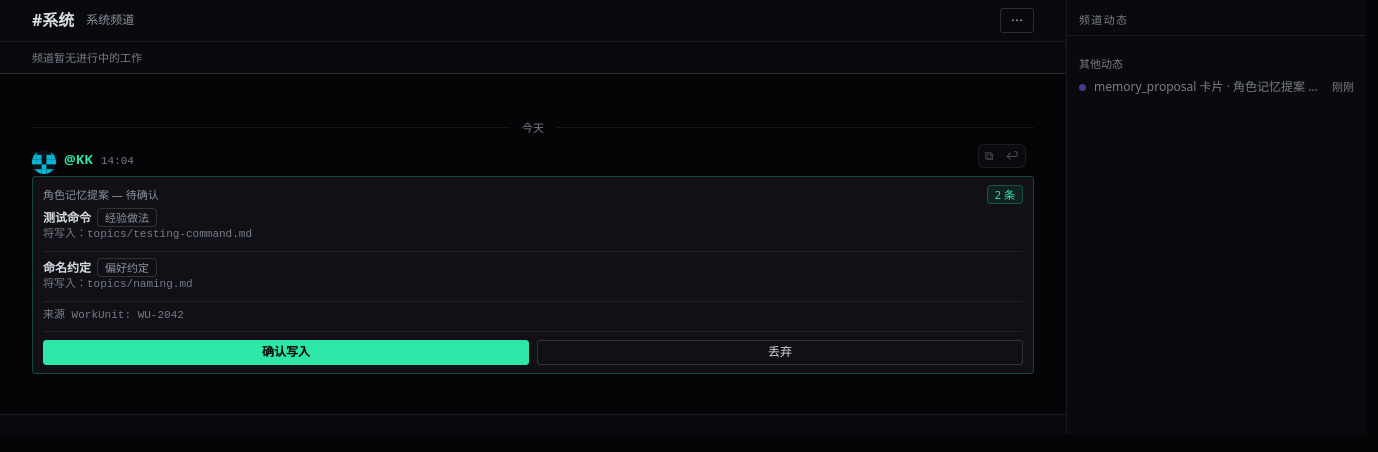
ChannelDetailPage — memory_proposal 审核分发 › reject → 逐 draftId POST 通用端点 reject，卡片显示已丢弃
Click the button "丢弃". click: x=780, y=352
box: [537, 340, 1023, 365]
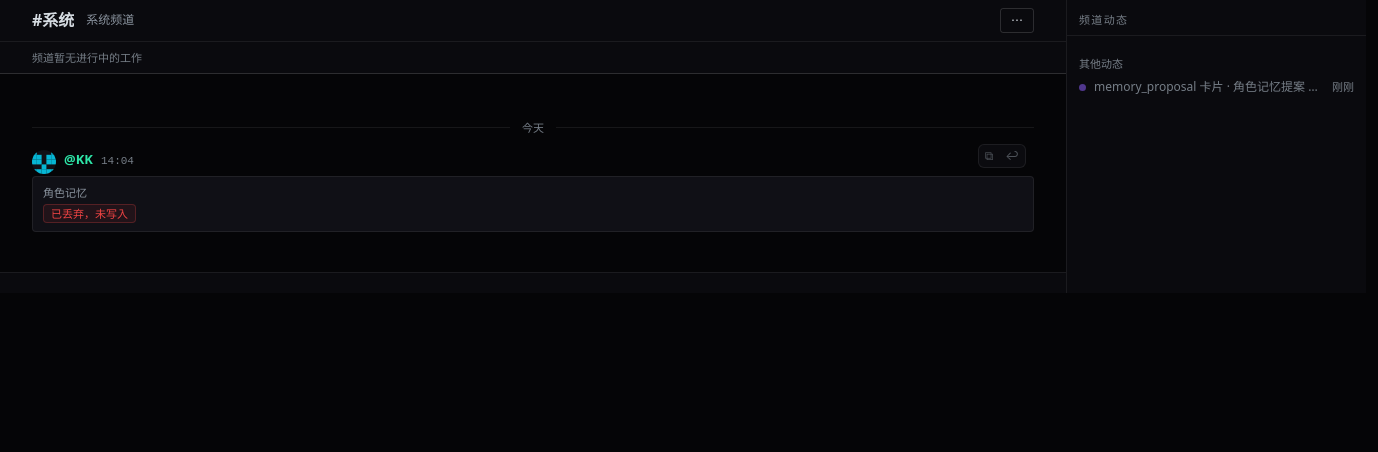
Now the text "已丢弃，未写入" is shown, box [43, 204, 136, 223]
